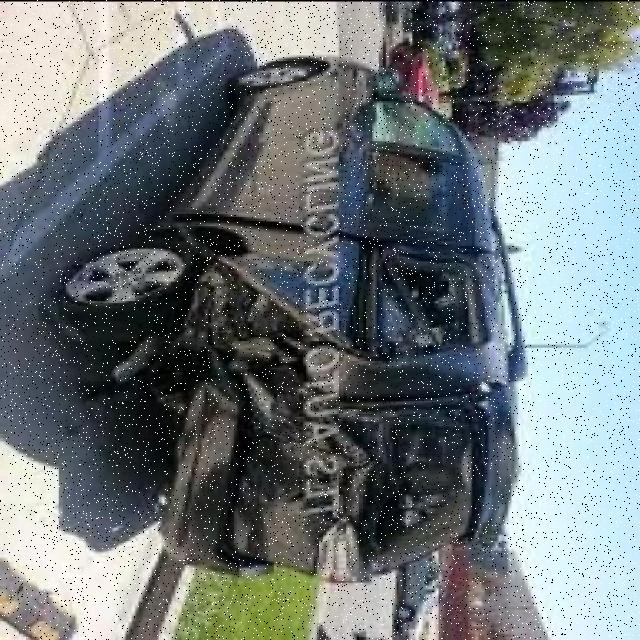damage: (95, 211, 522, 579)
